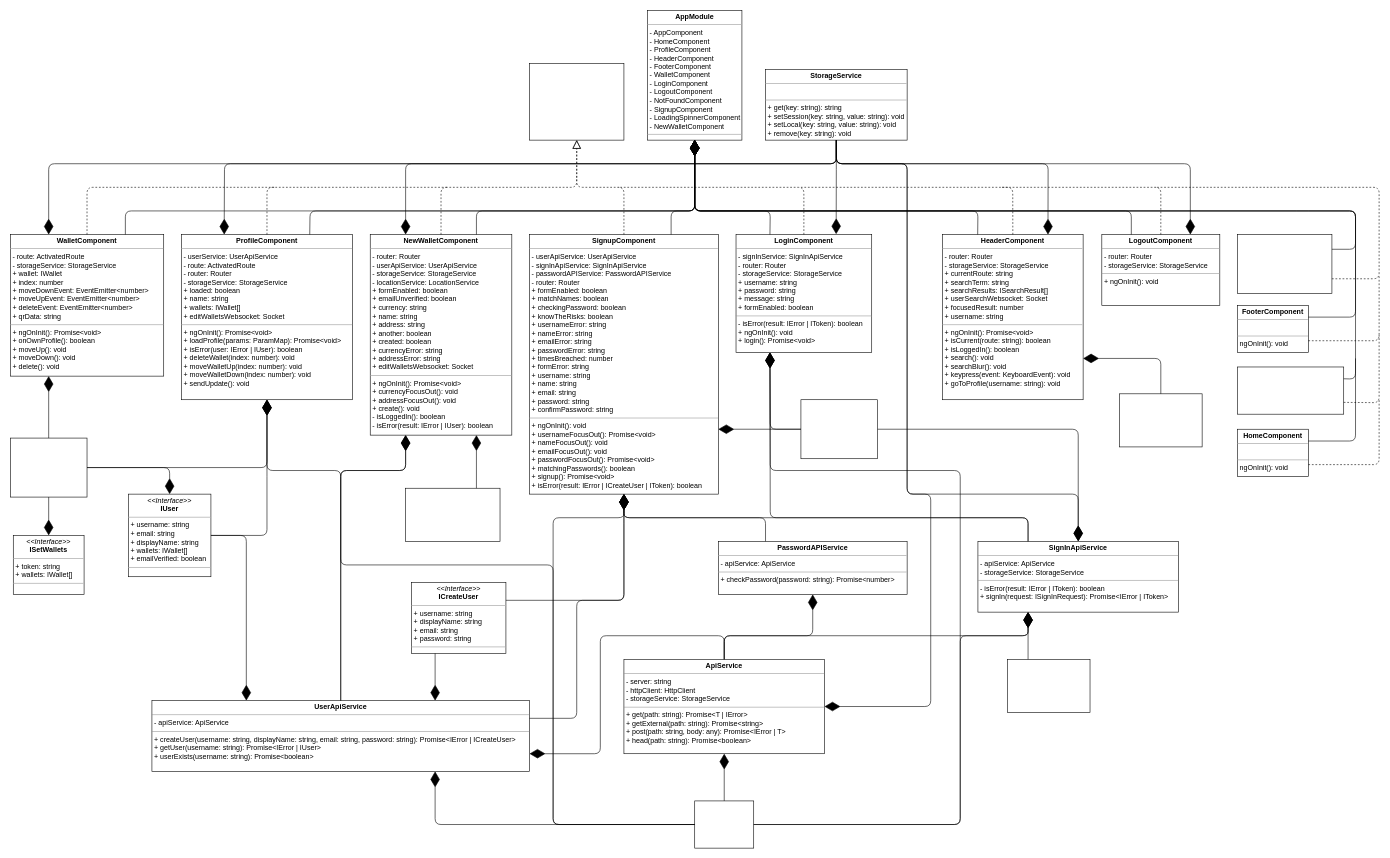
Image size: 1390x858. Some labels were removed from this diagram. Each missing label, with the centre of its shape:
<<Interface>> IError + error: string: point (724, 824)
<<Interface>> ISearchResult + displayName: string + username: string: point (1160, 420)
<<Interface>> ISignInRequest + username: string + password: string: point (1048, 685)
<<Interface>> IToken + token: string + username: string: point (839, 429)
<<Interface>> IWallet + name: string + currency: string + address: string: point (48, 467)
<<Interface>> OnInit ngOnInit(): void: point (576, 101)
LoadingSpinnerComponent ngOnInit(): void: point (1290, 390)
LocationService + reload(): void: point (452, 514)
NotFoundComponent - router: Router + path: string + ngOnInit(): void: point (1284, 264)
